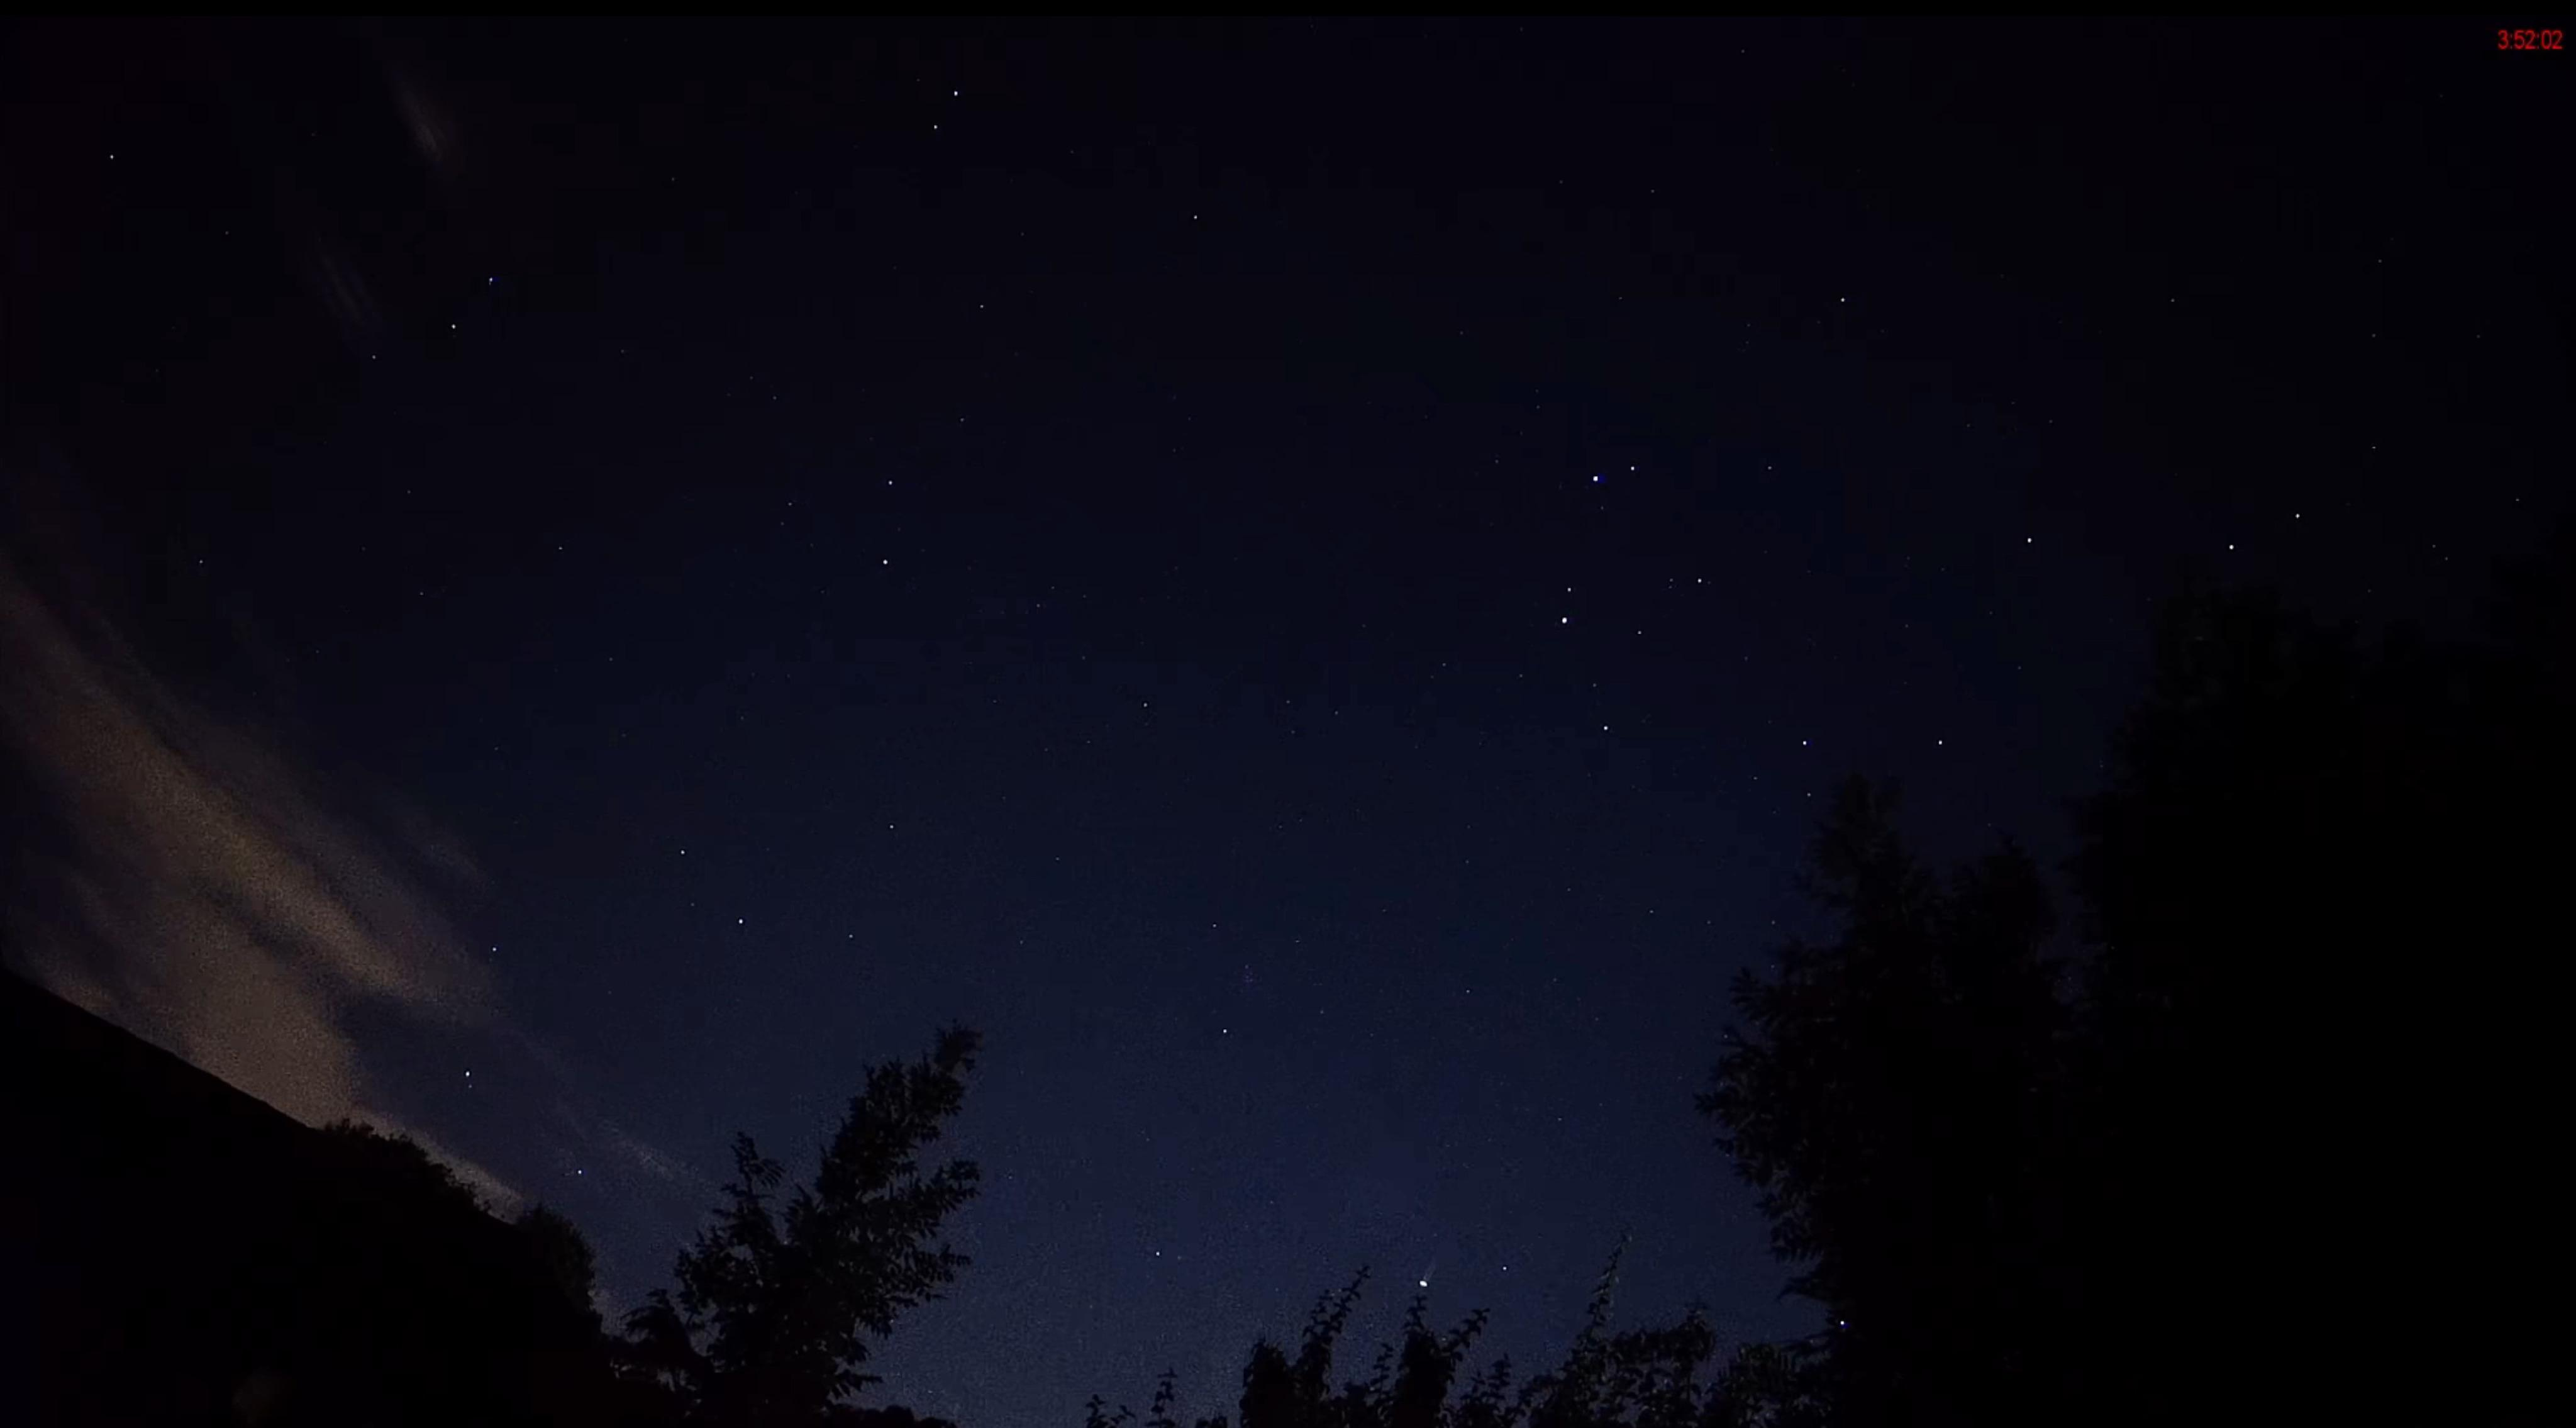Plane: (1400, 1235, 1465, 1289)
